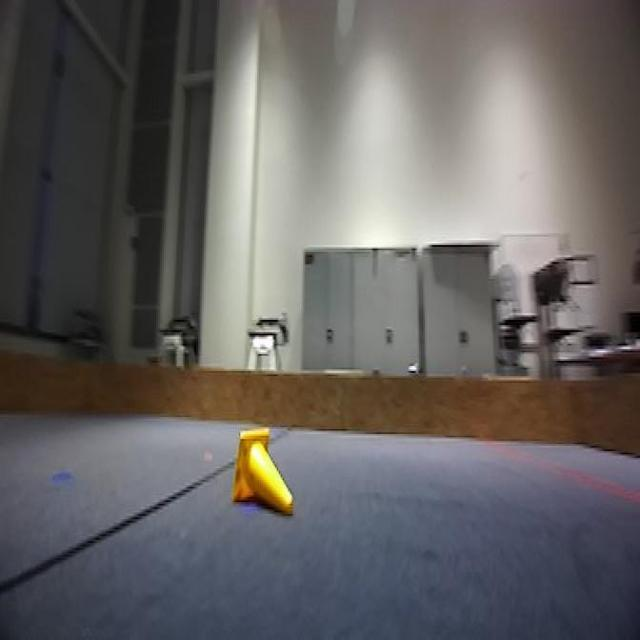frc_cone: (226, 431, 296, 519)
